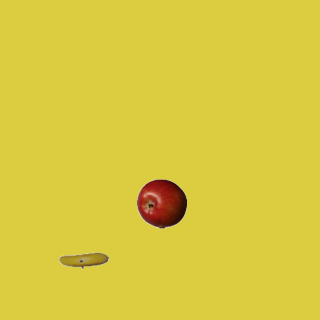Apple Braeburn: (136, 178, 186, 228)
Banana: (58, 235, 108, 285)
